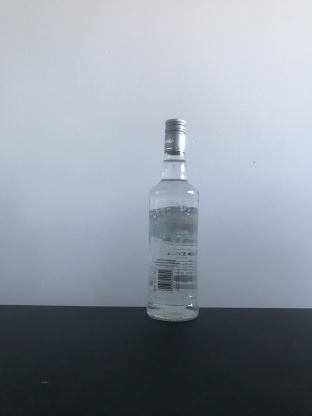nakretka: (163, 116, 187, 154)
